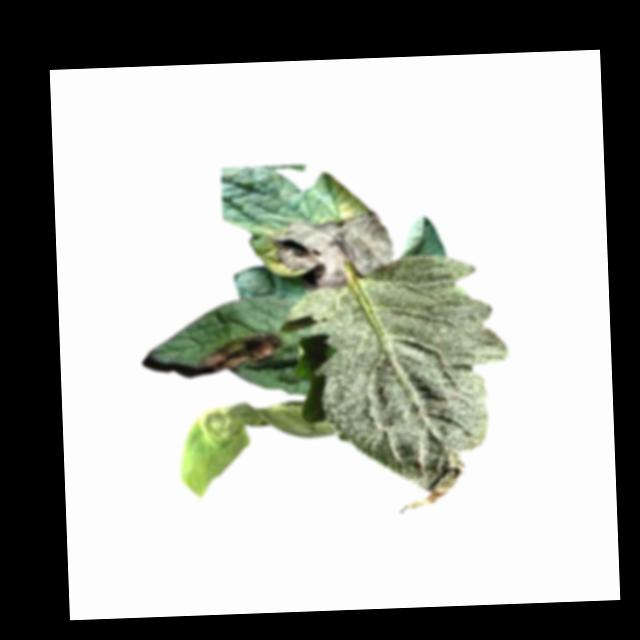Late_blight: (175, 397, 334, 501), (270, 207, 396, 290), (199, 330, 283, 375)
healthy: (287, 253, 511, 518)
